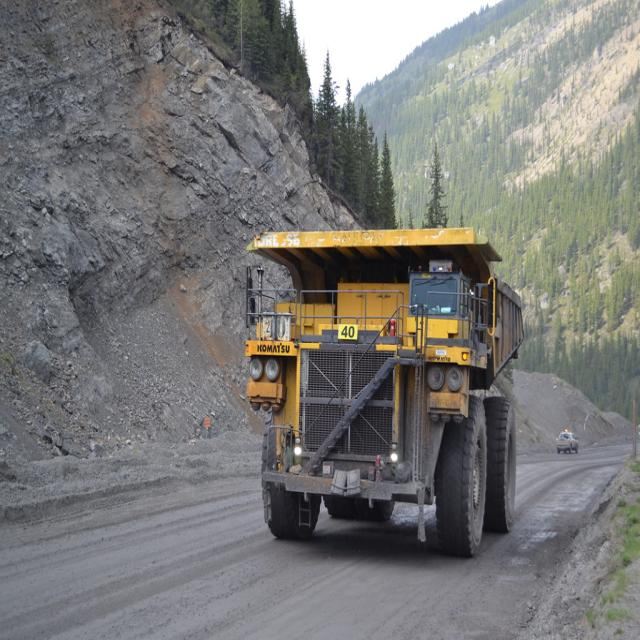dump_truck: (235, 217, 543, 560)
light_vehicle: (556, 428, 585, 458)
